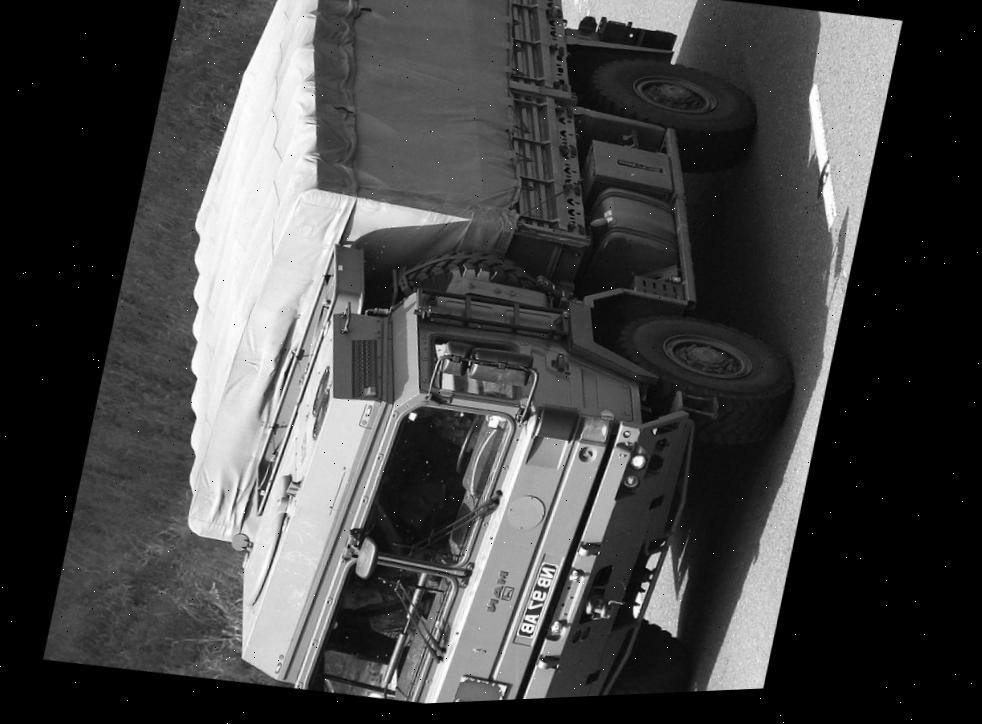truck: (97, 0, 871, 718)
